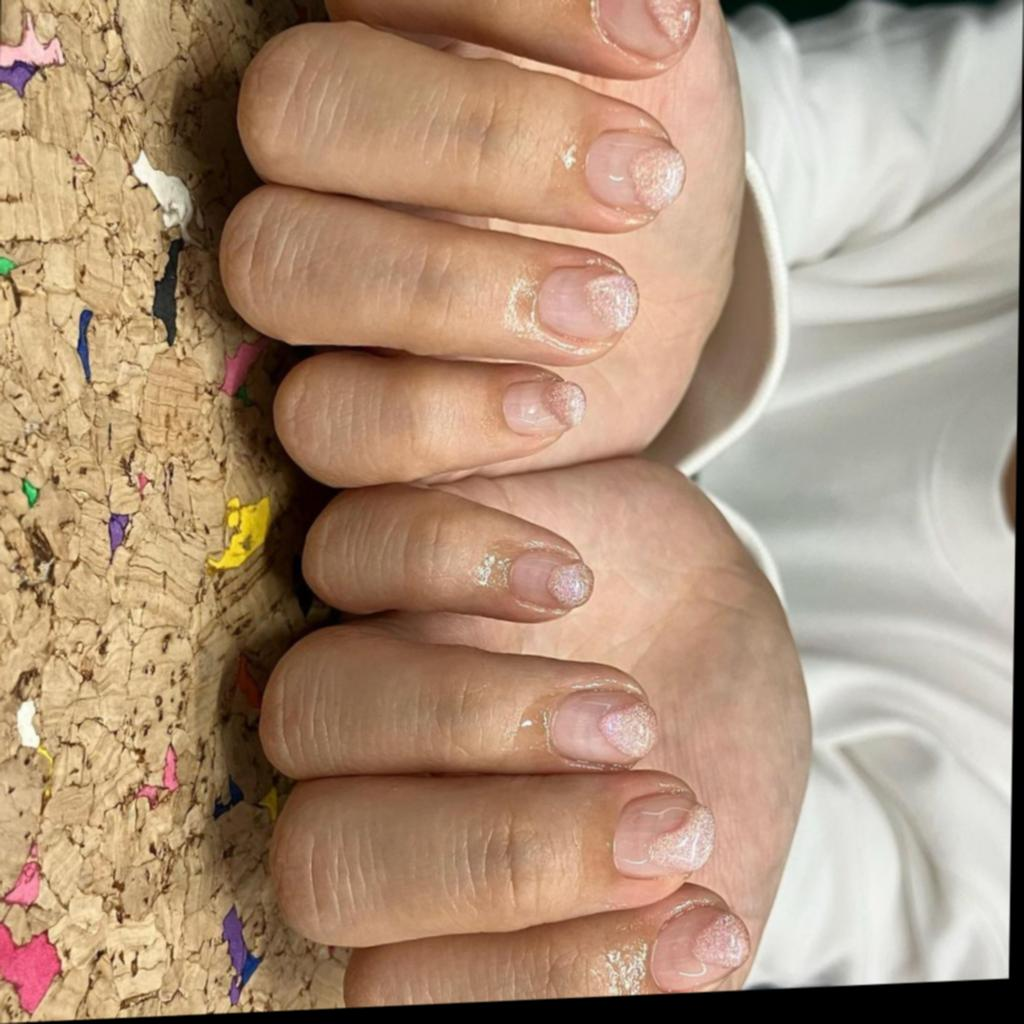nail: (233, 2, 691, 251), (216, 165, 643, 384), (257, 607, 661, 787), (271, 338, 588, 493), (299, 474, 597, 634), (648, 898, 753, 995), (611, 789, 718, 880), (582, 124, 688, 215), (547, 684, 659, 769), (535, 259, 641, 344), (590, 0, 702, 65), (500, 374, 588, 436)
